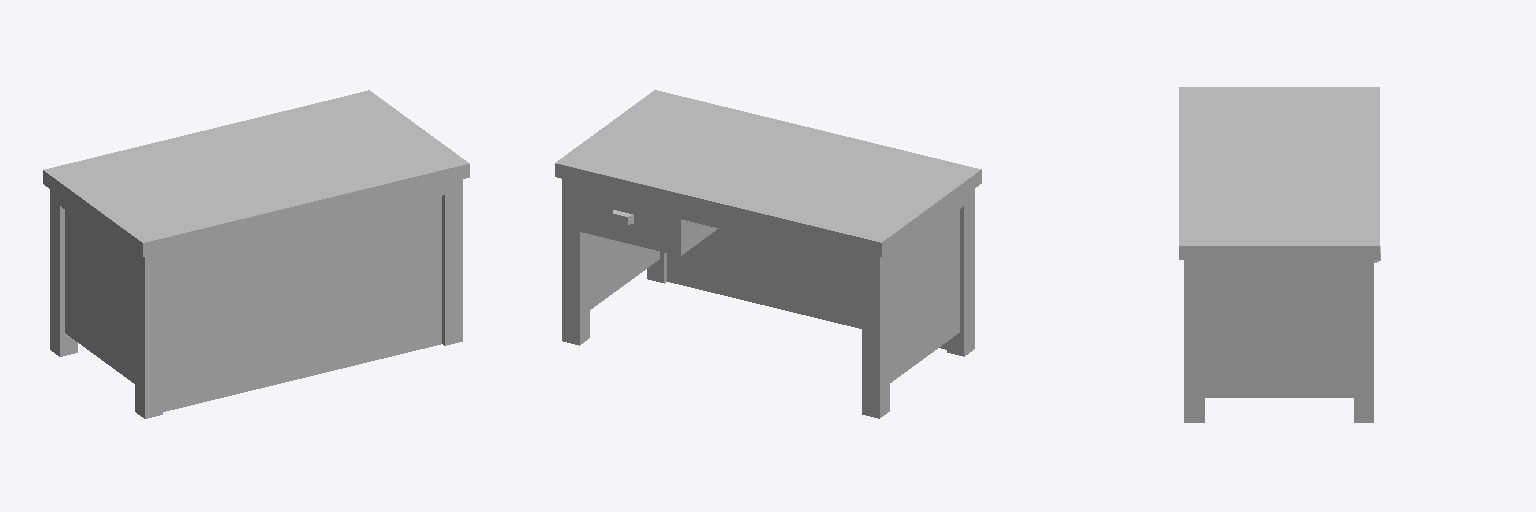
The model's file is desk.obj.
The picture shows the model from 3 angles: view 1: azimuth 30°, elevation 25°; view 2: azimuth 150°, elevation 25°; view 3: azimuth 270°, elevation 25°; orthographic projection.
Parts seen in each view (by area): view 1: desk; view 2: desk, drawer; view 3: desk.
Boxes of the visible parts, box(x1,y1,x2,y2) form: desk: box(43, 90, 469, 418); desk: box(555, 90, 981, 418); drawer: box(580, 195, 666, 238); desk: box(1179, 87, 1379, 422).
Size of the model in its own units: 0.7345 by 0.3844 by 0.3923.